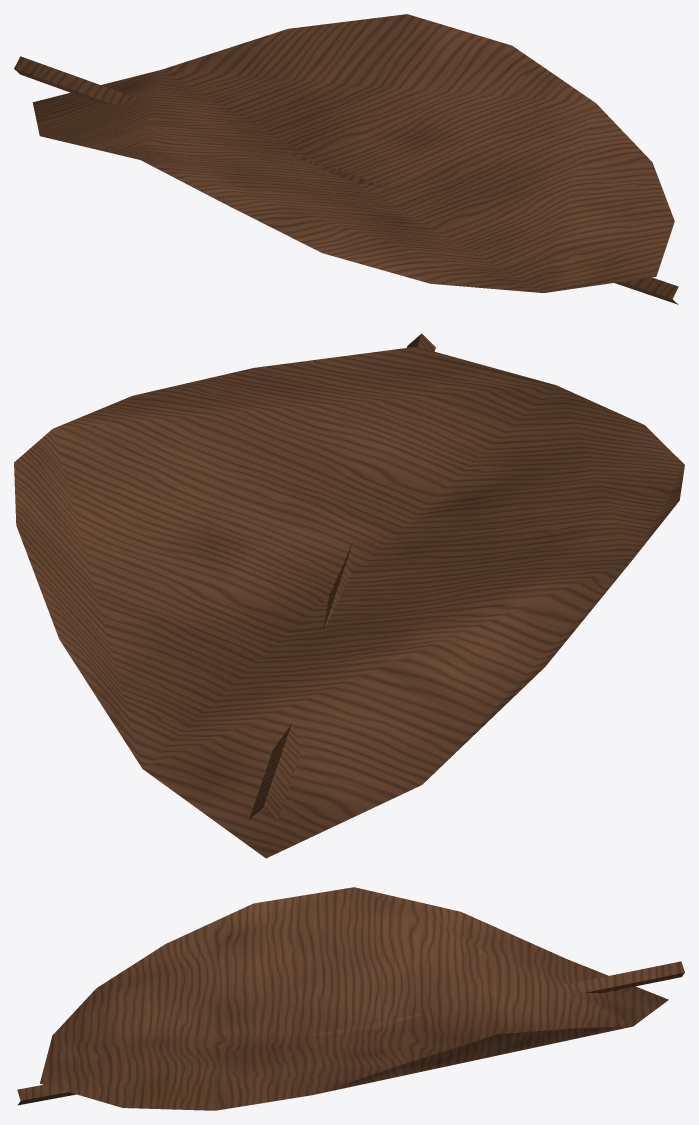
Rendered from fallen_leaf.glb.
3 views of the same model, one above another, from view 1: azimuth 30°, elevation 25°; view 2: azimuth 150°, elevation 25°; view 3: azimuth 270°, elevation 25° (orthographic). The views are drawn at different scales.
Parts seen in each view (by area): view 1: group_0; view 2: group_0; view 3: group_0.
Boxes of the visible parts, box(x1,y1,x2,y2) form: group_0: box(14, 14, 678, 304); group_0: box(14, 333, 684, 858); group_0: box(17, 887, 684, 1110).
Size of the model in its own units: 8.87 by 1.84 by 13.81.
Materials: 2 (2 with a texture image).
